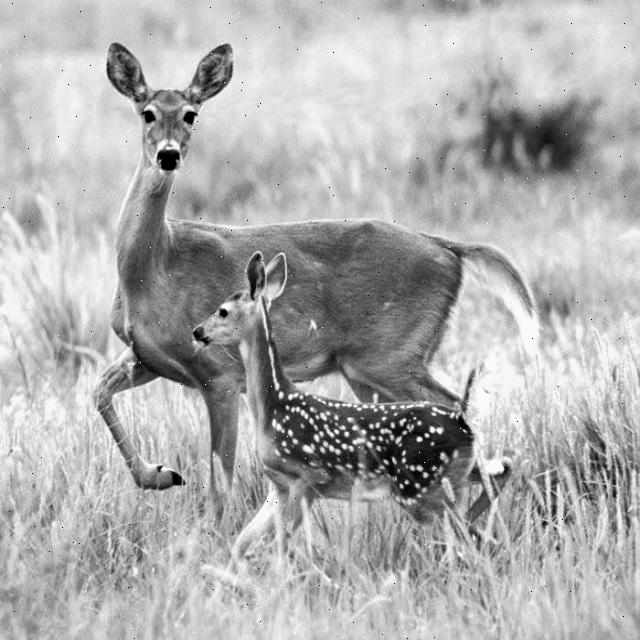deer: (102, 27, 240, 185), (168, 239, 304, 382)
